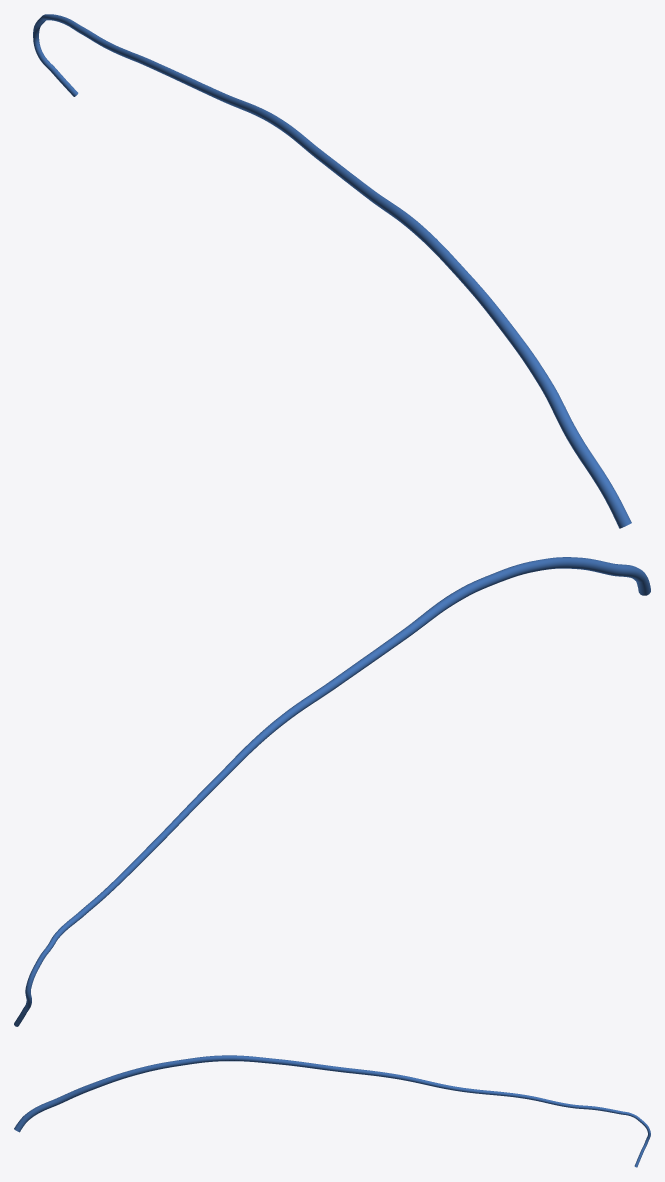
The picture shows the model from 3 angles, top to bottom: view 1: azimuth 30°, elevation 25°; view 2: azimuth 150°, elevation 25°; view 3: azimuth 270°, elevation 25°; orthographic projection. The views are drawn at different scales.
Visible parts, largest first — view 1: 左侧小隐静脉; view 2: 左侧小隐静脉; view 3: 左侧小隐静脉.
Boxes of the visible parts, x1,y1,x2,y2 form: 左侧小隐静脉: [33, 14, 631, 528]; 左侧小隐静脉: [14, 557, 650, 1026]; 左侧小隐静脉: [14, 1055, 650, 1167].
Size of the model in its own units: 0.0517 by 0.1111 by 0.6724.
